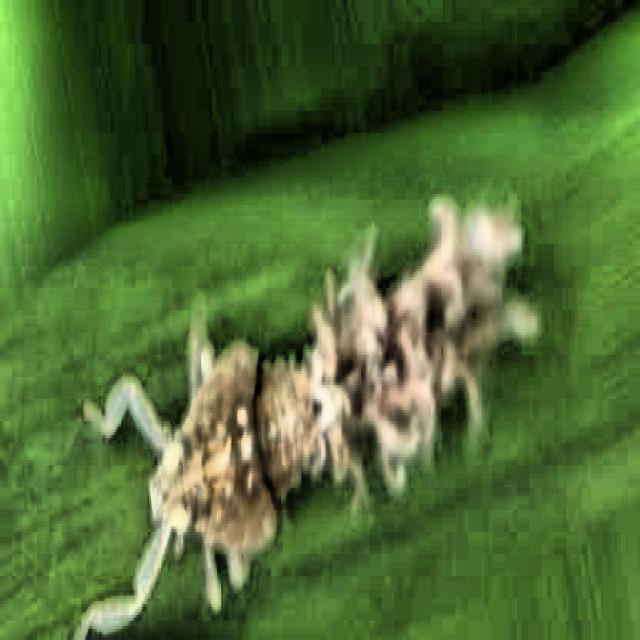Pyrilla-perpusilla: (34, 150, 619, 640)
